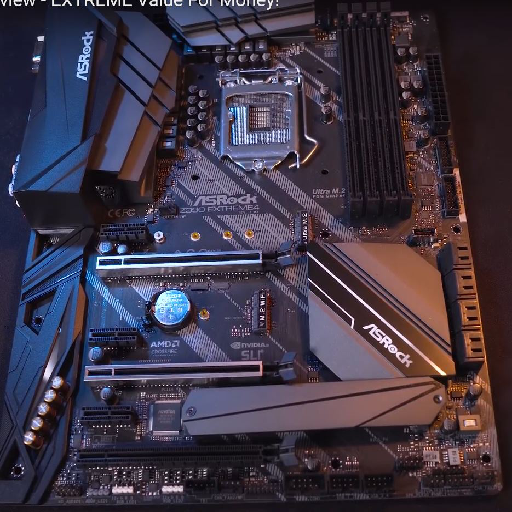CPU: (219, 65, 302, 173)
GPU: (96, 241, 296, 279), (84, 351, 298, 385)
MOTHERBOARD: (27, 3, 505, 506)
RAM: (333, 2, 414, 223)
SSD: (249, 290, 274, 333), (292, 212, 318, 250)
